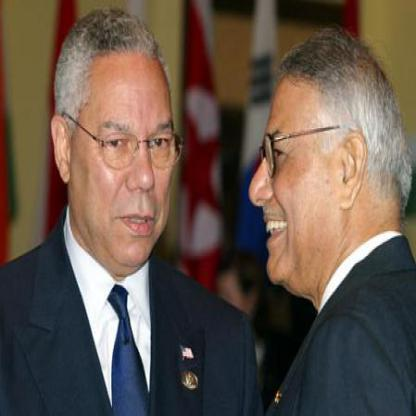face: (71, 20, 183, 271), (246, 54, 345, 296)
